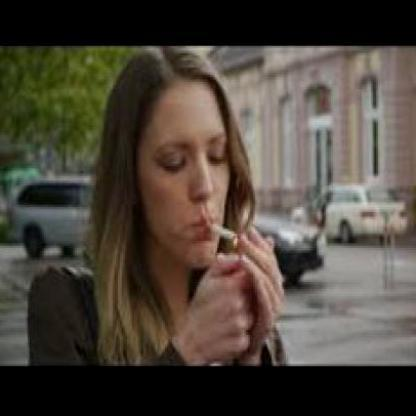cigarette: (204, 223, 238, 244)
person: (91, 46, 256, 366)
